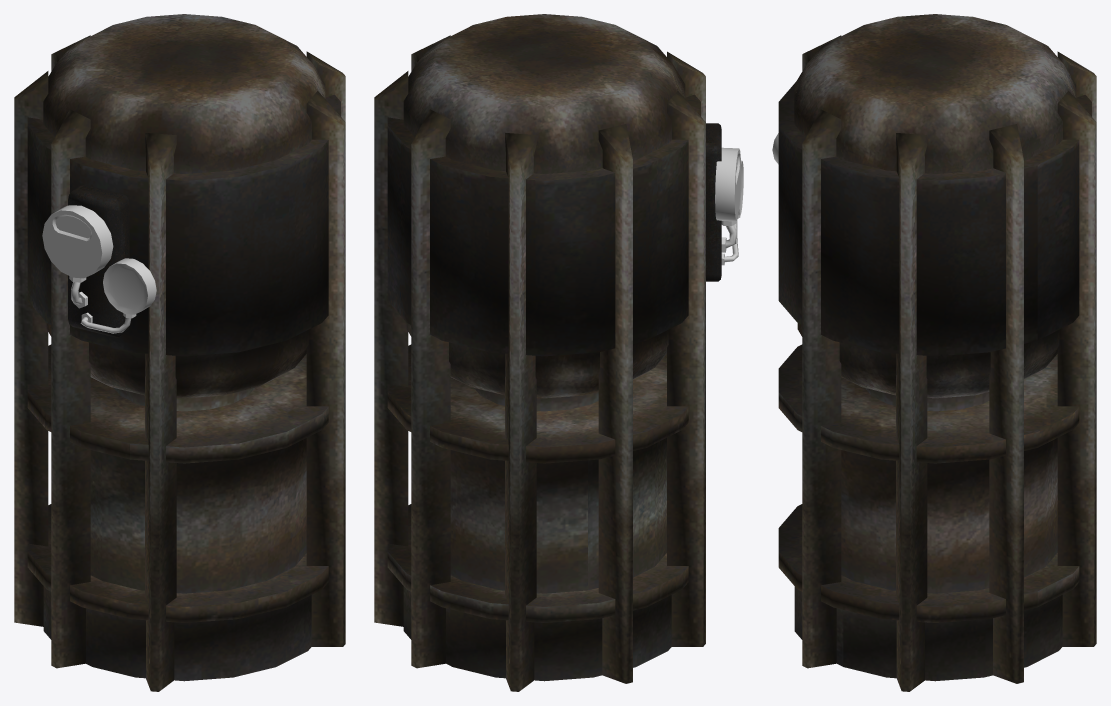
File: compressor_standalone.dae
3 renders of one model, left to right at view 1: azimuth 30°, elevation 25°; view 2: azimuth 150°, elevation 25°; view 3: azimuth 270°, elevation 25°, orthographic.
Visible parts, largest first — view 1: Box362, Box365; view 2: Box362, Box365; view 3: Box362.
Boxes of the visible parts, x1=… form: Box362: x1=14, y1=14, x2=345, y2=691; Box365: x1=42, y1=205, x2=156, y2=333; Box362: x1=374, y1=14, x2=721, y2=691; Box365: x1=715, y1=147, x2=743, y2=265; Box362: x1=778, y1=14, x2=1096, y2=691.
Bounding box in the file's own units: 1.7 × 2.94 × 1.53.
